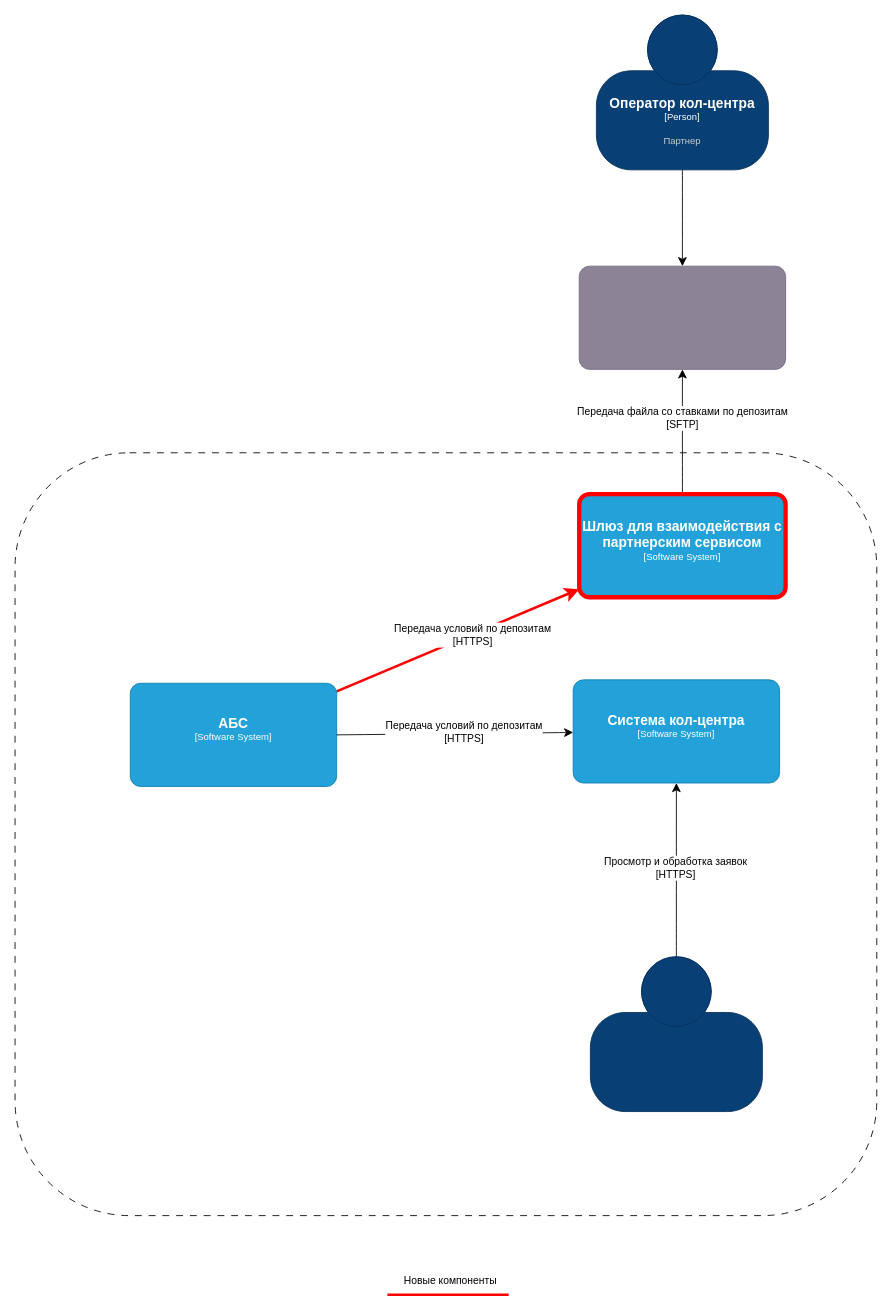
The diagram is 892 pixels wide and 1312 high, and some of its shapes have lost their labels. Here are the shapes that lost their labels. From the top down, the centre of each, then its label:
At (x=682, y=317): "Партнерский кол-центр [External software System]".
At (x=676, y=1034): "Оператор кол-центра [Person]".
